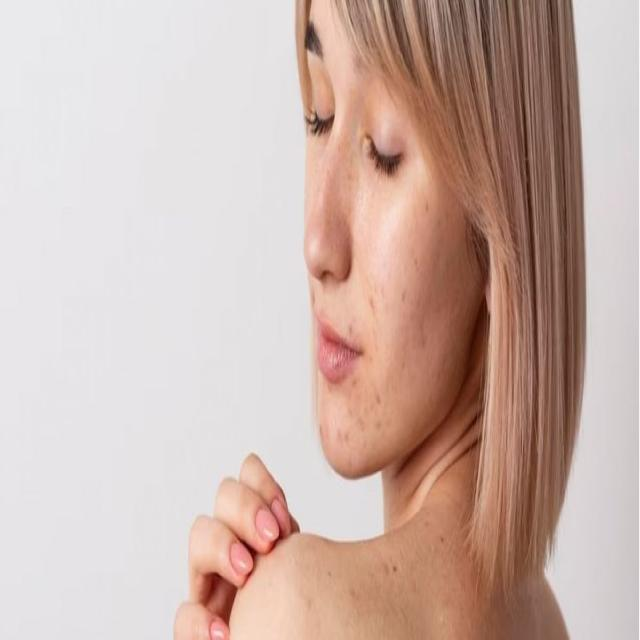Oily-Skin: (306, 110, 356, 284), (368, 180, 429, 273)
